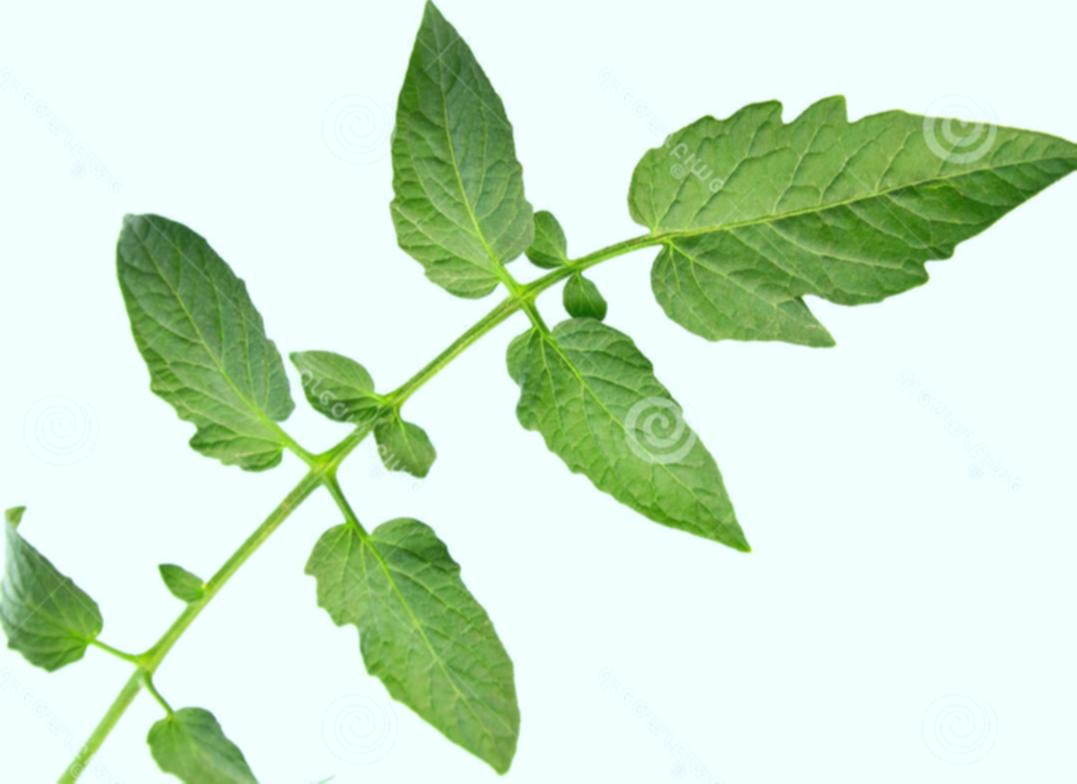Tomato leaf: (641, 26, 1077, 374), (250, 486, 572, 784), (325, 0, 616, 319), (46, 191, 312, 487), (513, 296, 784, 569), (0, 488, 121, 678), (143, 675, 330, 784)
